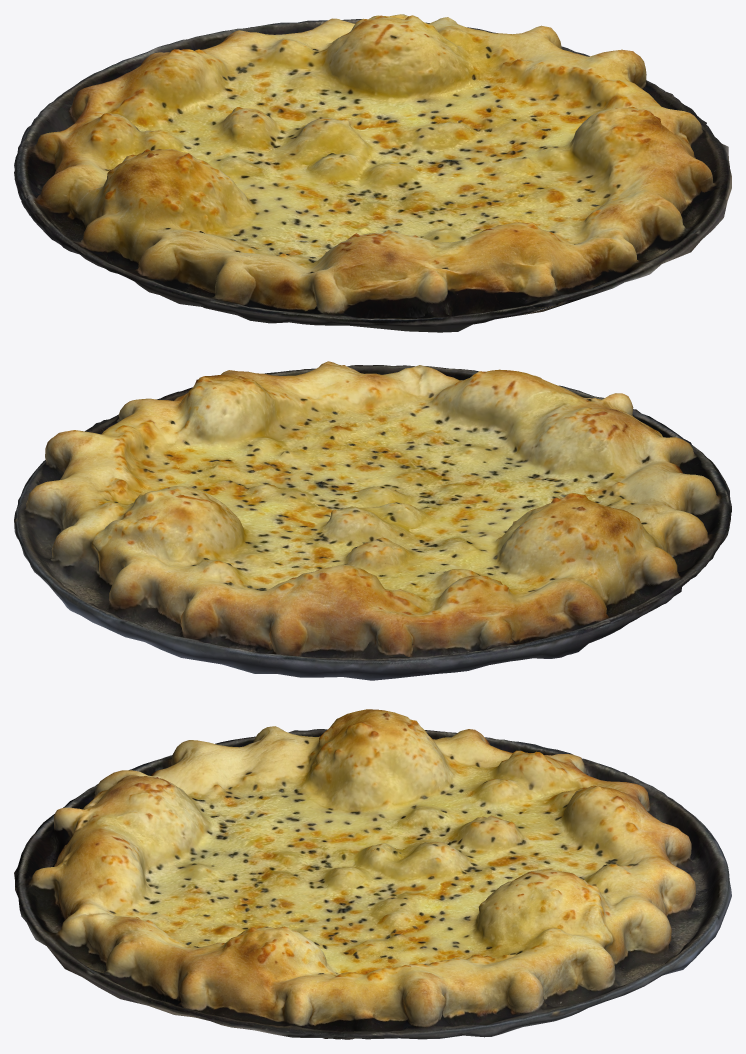
File: ManageeshNabelsiCheese.glb
3 renders of one model, top to bottom at view 1: azimuth 30°, elevation 25°; view 2: azimuth 150°, elevation 25°; view 3: azimuth 270°, elevation 25°, orthographic.
Parts seen in each view (by area): view 1: ObjectCapture; view 2: ObjectCapture; view 3: ObjectCapture.
Part boxes in pixels (bbox=[...]): ObjectCapture: bbox=[14, 14, 731, 332]; ObjectCapture: bbox=[14, 361, 731, 680]; ObjectCapture: bbox=[14, 709, 731, 1039].
Size of the model in its own units: 0.3019 by 0.0419 by 0.3054.
Materials: 1 (1 with a texture image).
